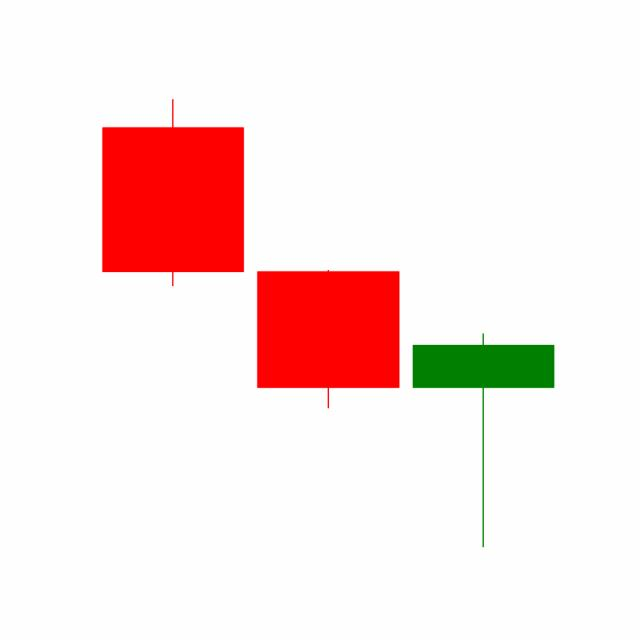Hammer: (405, 331, 561, 550)
